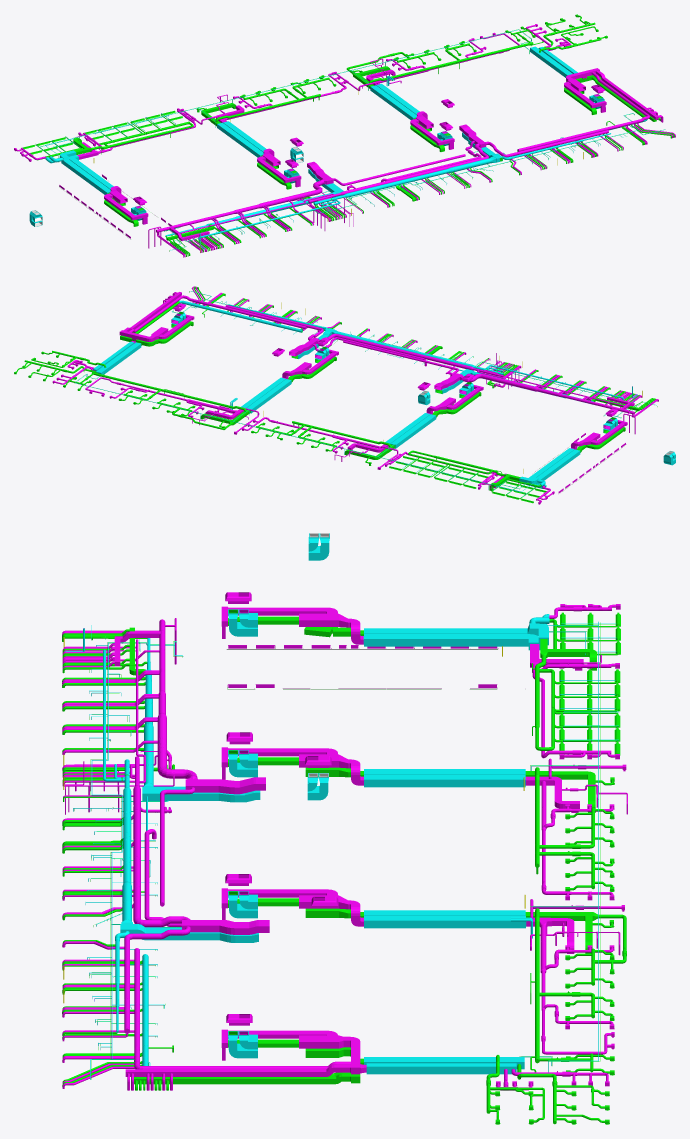
The picture shows the model from 3 angles, top to bottom: view 1: azimuth 30°, elevation 25°; view 2: azimuth 150°, elevation 25°; view 3: azimuth 270°, elevation 25°; orthographic projection. The views are drawn at different scales.
Visible parts, largest first — view 1: 1aE$HUi1PD$RhXhOjpmWhH, 1Dw6iOUEzDbPmkhTTcwCFd, 3hTpNNY5jDOQ2aYt3fnLjt, 0ljPnQ6rPB0xCrsCMfXgOp; view 2: 1Dw6iOUEzDbPmkhTTcwCFd, 1aE$HUi1PD$RhXhOjpmWhH, 3hTpNNY5jDOQ2aYt3fnLjt, 0ljPnQ6rPB0xCrsCMfXgOp; view 3: 0QOToKmJ161gfwDPgPD9w7, 1ZGu248jz2efEulCbZ5aXK, 1p0vY$mGv1AQ1EaATlbkED, 2AM6xoDRT3Qu9YTUQRXClq, 2fXbwbKTHAovC4CyFh_Gf8, 3uW9W$Vur9NhW2a8cbyGO8, 3hTpNNY5jDOQ2aYt3fnLjt, 1aE$HUi1PD$RhXhOjpmWhH, 1Dw6iOUEzDbPmkhTTcwCFd, 3Qox73FBz8cfdUjCKrSVcj.
Boxes of the visible parts, box(x1,y1,x2,y2) form: 1aE$HUi1PD$RhXhOjpmWhH: box(370, 85, 416, 119); 1Dw6iOUEzDbPmkhTTcwCFd: box(217, 122, 263, 157); 3hTpNNY5jDOQ2aYt3fnLjt: box(64, 160, 110, 194); 0ljPnQ6rPB0xCrsCMfXgOp: box(345, 154, 465, 185); 1Dw6iOUEzDbPmkhTTcwCFd: box(390, 414, 436, 448); 1aE$HUi1PD$RhXhOjpmWhH: box(247, 379, 291, 413); 3hTpNNY5jDOQ2aYt3fnLjt: box(536, 449, 580, 483); 0ljPnQ6rPB0xCrsCMfXgOp: box(343, 340, 456, 369); 0QOToKmJ161gfwDPgPD9w7: box(364, 774, 525, 787); 1ZGu248jz2efEulCbZ5aXK: box(364, 915, 525, 928); 1p0vY$mGv1AQ1EaATlbkED: box(364, 634, 528, 646); 2AM6xoDRT3Qu9YTUQRXClq: box(366, 1063, 503, 1074); 2fXbwbKTHAovC4CyFh_Gf8: box(169, 1076, 335, 1084); 3uW9W$Vur9NhW2a8cbyGO8: box(173, 1069, 325, 1076); 3hTpNNY5jDOQ2aYt3fnLjt: box(364, 628, 525, 633); 1aE$HUi1PD$RhXhOjpmWhH: box(364, 910, 525, 915); 1Dw6iOUEzDbPmkhTTcwCFd: box(364, 769, 525, 774); 3Qox73FBz8cfdUjCKrSVcj: box(364, 1057, 495, 1064).
Size of the model in its own units: 147 by 7.98 by 61.11.
